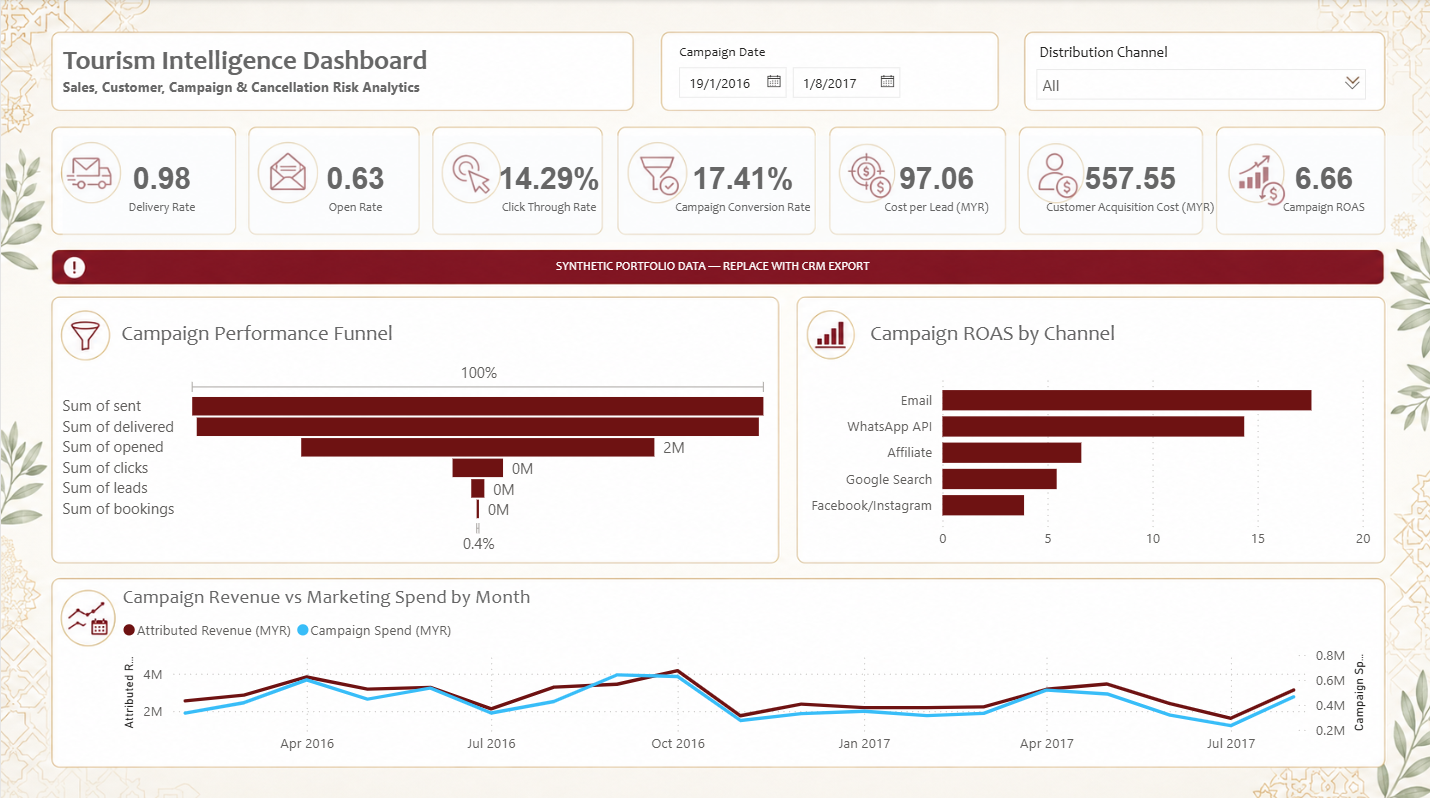

This screenshot's page, from the dashboard's own definition file:
{"tool":"powerbi","page":{"name":"Campaign Funnel & ROAS4","canvas":[1280,720],"ordinal":3},"visuals":[{"type":"textbox","box":[19.8,223.3,1231.4,33.7],"z":0},{"type":"funnel","fields":{"Y":["Sum(fact_campaign_funnel_synthetic.sent)","Sum(fact_campaign_funnel_synthetic.delivered)","Sum(fact_campaign_funnel_synthetic.opened)","Sum(fact_campaign_funnel_synthetic.clicks)","Sum(fact_campaign_funnel_synthetic.leads)","Sum(fact_campaign_funnel_synthetic.bookings)"]},"box":[50,319,641,181],"z":1000},{"type":"clusteredBarChart","fields":{"Category":["fact_campaign_funnel_synthetic.channel"],"Y":["Booking measures.Campaign ROAS"]},"box":[710,326.7,518.3,173.3],"z":2000},{"type":"lineChart","title":"Campaign Revenue vs Marketing Spend by Month","fields":{"Y":["Booking measures.Attributed Revenue (MYR)"],"Y2":["Booking measures.Campaign Spend (MYR)"],"Category":["fact_campaign_funnel_synthetic.campaign_month"]},"box":[103.5,522.1,1120.9,160.5],"z":3000},{"type":"cardVisual","fields":{"Data":["Booking measures.Delivery Rate","Booking measures.Open Rate","Booking measures.Click Through Rate","Booking measures.Campaign Conversion Rate","Booking measures.Cost per Lead (MYR)","Booking measures.Customer Acquisition Cost (MYR)","Booking measures.Campaign ROAS"]},"box":[50,117.4,1230.2,105.8],"z":4000},{"type":"slicer","fields":{"Values":["fact_campaign_funnel_synthetic.campaign_month"]},"box":[593,34.9,286,64],"z":5000},{"type":"slicer","fields":{"Values":["dim_channel.distribution_channel"]},"box":[915,35,315,63.3],"z":6000},{"type":"textbox","box":[50,34.9,443,61.6],"z":7000},{"type":"textbox","box":[772,283,272,43],"z":8000},{"type":"textbox","box":[103,283,280,39],"z":9000}]}

Visuals, with their boxes in screenshot pixels (x1, y1, x2, y2), scaled from the page's 1280x720 canvas onto the 1430x798 screenshot:
textbox: BBox(22, 247, 1398, 285)
funnel - Sum(fact_campaign_funnel_synthetic.sent) x Sum(fact_campaign_funnel_synthetic.delivered): BBox(56, 354, 772, 554)
clusteredBarChart - fact_campaign_funnel_synthetic.channel x Booking measures.Campaign ROAS: BBox(793, 362, 1372, 554)
"Campaign Revenue vs Marketing Spend by Month" lineChart: BBox(116, 579, 1368, 757)
cardVisual - Booking measures.Delivery Rate x Booking measures.Open Rate: BBox(56, 130, 1429, 247)
slicer - fact_campaign_funnel_synthetic.campaign_month: BBox(662, 39, 982, 110)
slicer - dim_channel.distribution_channel: BBox(1022, 39, 1374, 109)
textbox: BBox(56, 39, 551, 107)
textbox: BBox(862, 314, 1166, 361)
textbox: BBox(115, 314, 428, 357)
